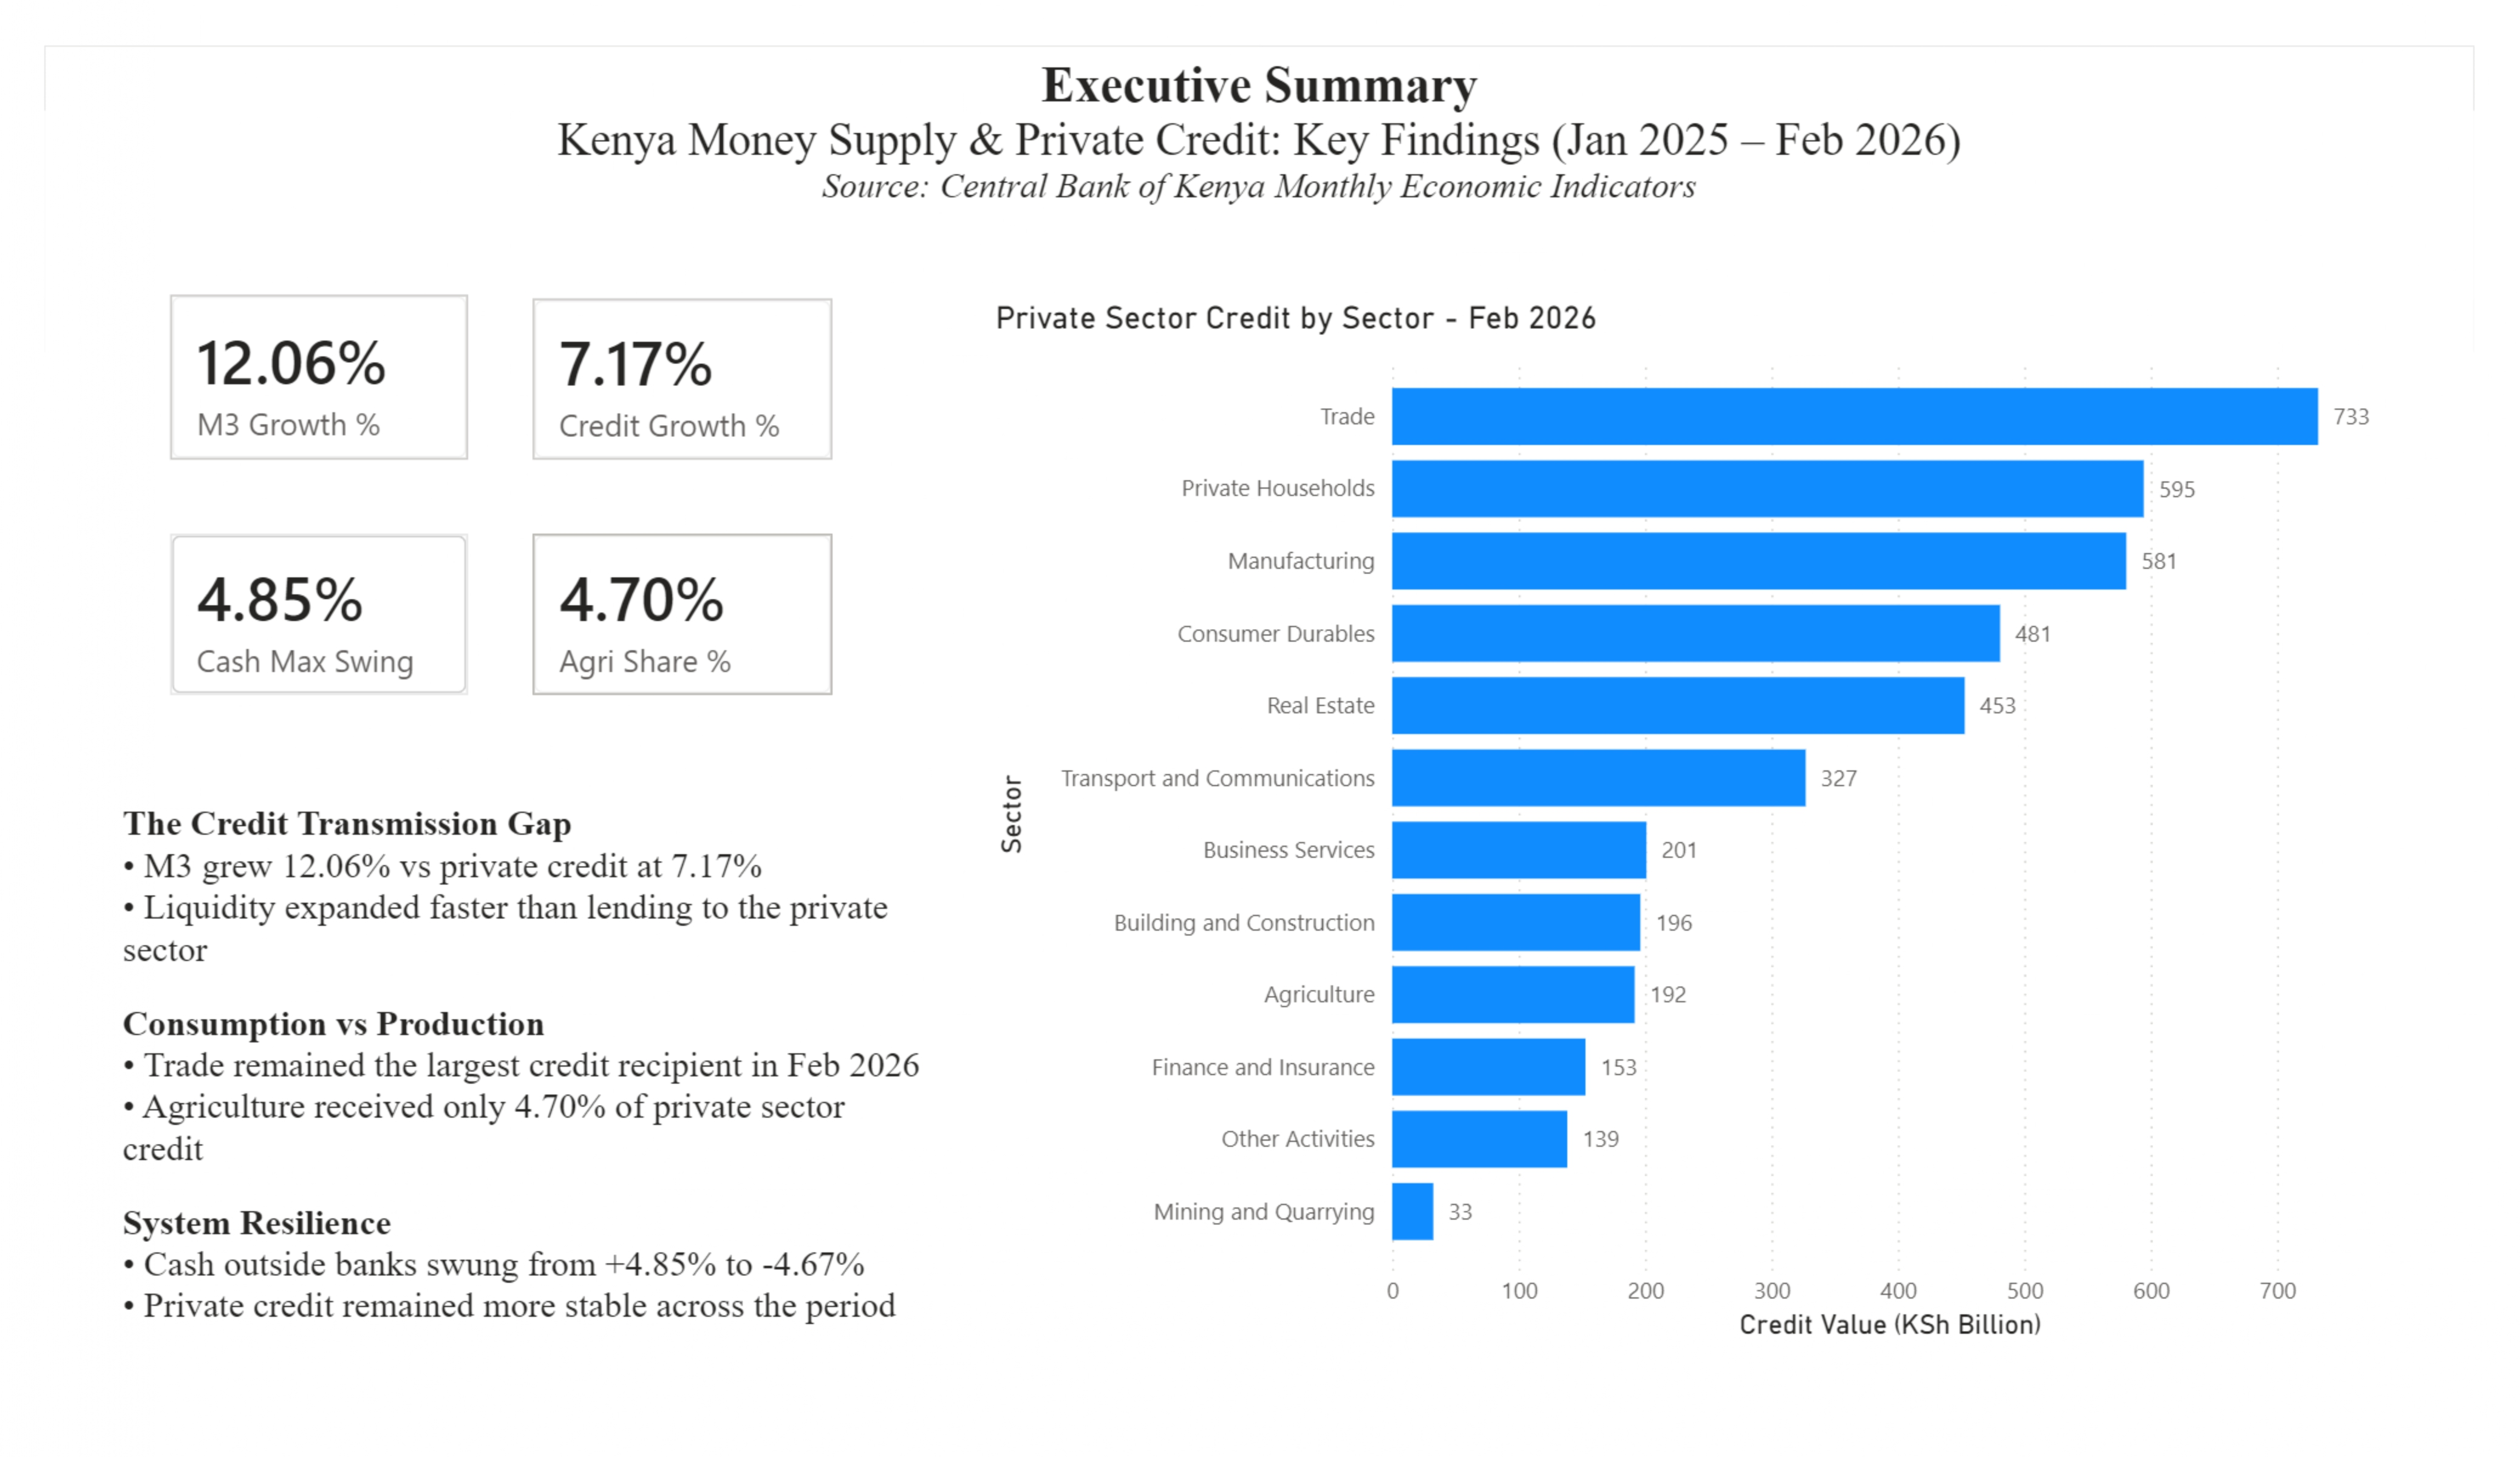

This screenshot's page, from the dashboard's own definition file:
{"tool":"powerbi","page":{"name":"Executive Summary","canvas":[1280,720],"ordinal":0},"visuals":[{"type":"textbox","box":[0,0,1280,132.9],"z":0},{"type":"cardVisual","title":"M3 Total Growth","fields":{"Data":["PowerBI_Data.M3 Growth %"]},"box":[48.7,114.2,191.5,120.9],"z":1000},{"type":"cardVisual","fields":{"Data":["PowerBI_Data.Credit Growth %"]},"box":[240.2,115.9,191.5,119.3],"z":2000},{"type":"cardVisual","fields":{"Data":["PowerBI_Data.Cash Max Swing"]},"box":[48.7,240.2,191.5,119.3],"z":3000},{"type":"cardVisual","fields":{"Data":["PowerBI_Data.Agri Share %"]},"box":[240.2,240.2,191.5,119.3],"z":4000},{"type":"clusteredBarChart","title":"Private Sector Credit by Sector - Feb 2026","fields":{"Category":["Sector_Credit_Data.Sector"],"Y":["Sum(Sector_Credit_Data.Credit_Value)"]},"box":[495.5,132.7,754.2,554.3],"z":5000},{"type":"textbox","box":[35.7,394.3,435.7,292.9],"z":5001}]}

Visuals, with their boxes on the page's 1280x720 design canvas (x1, y1, x2, y2). These are canvas units, not pixel positions in the 2520x1457 screenshot, which may show the page scaled, cropped or inside an application window:
textbox: crop(0, 0, 1280, 133)
"M3 Total Growth" cardVisual: crop(49, 114, 240, 235)
cardVisual - PowerBI_Data.Credit Growth %: crop(240, 116, 432, 235)
cardVisual - PowerBI_Data.Cash Max Swing: crop(49, 240, 240, 360)
cardVisual - PowerBI_Data.Agri Share %: crop(240, 240, 432, 360)
"Private Sector Credit by Sector - Feb 2026" clusteredBarChart: crop(496, 133, 1250, 687)
textbox: crop(36, 394, 471, 687)
